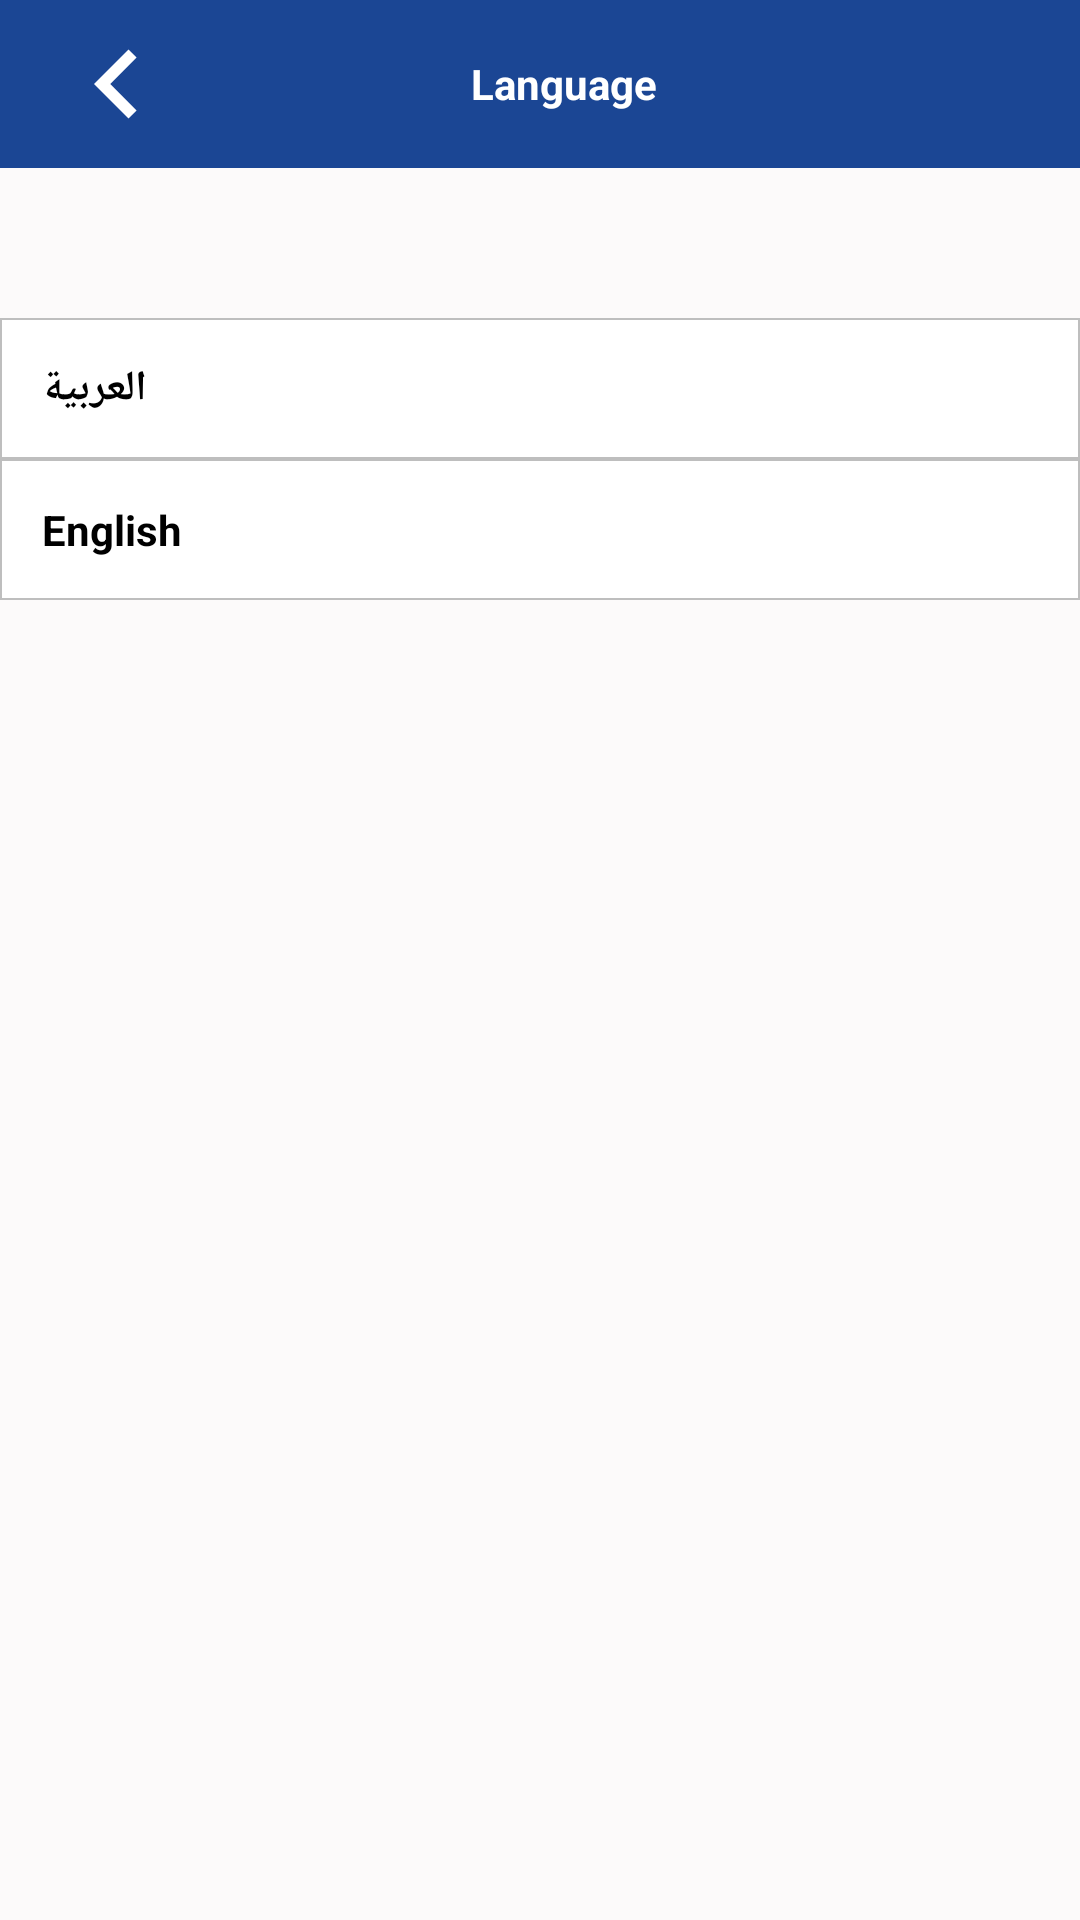

Icons on this 1080px x 1920px Android screen, each with the point to tap as (x=x, y=y):
arrow left: (x=115, y=84)
